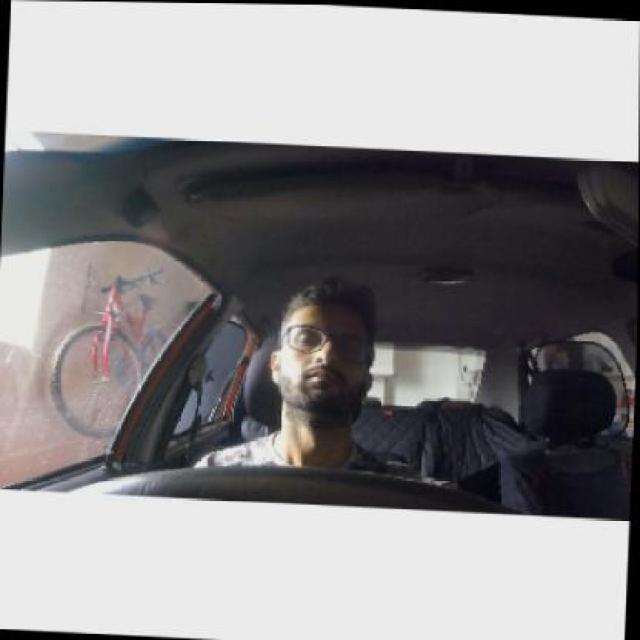drowsy: (277, 278, 387, 434)
